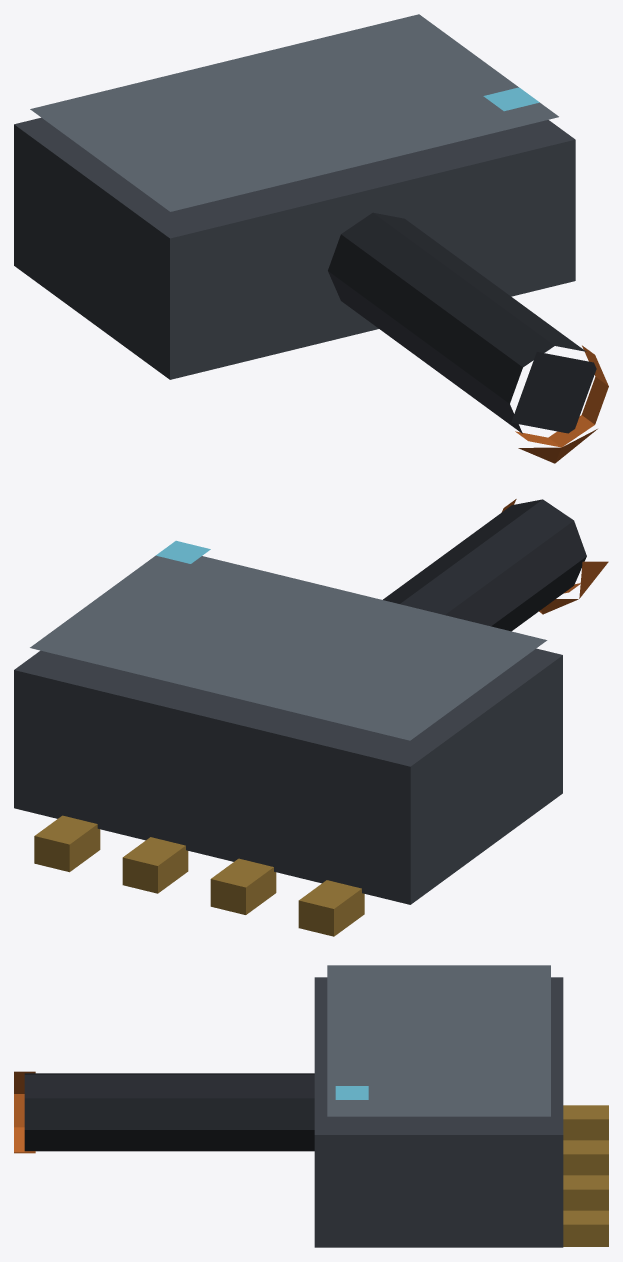
File: droid-blaster-integration.lod.glb
The picture shows the model from 3 angles, top to bottom: view 1: azimuth 30°, elevation 25°; view 2: azimuth 150°, elevation 25°; view 3: azimuth 270°, elevation 25°; orthographic projection. The views are drawn at different scales.
Visible parts, largest first — view 1: m; view 2: m; view 3: m.
Part boxes in pixels (<box>): m: <box>14,14,608,463</box>; m: <box>14,499,608,936</box>; m: <box>14,965,608,1247</box>.
Size of the model in its own units: 0.1 by 0.0467 by 0.1596.
